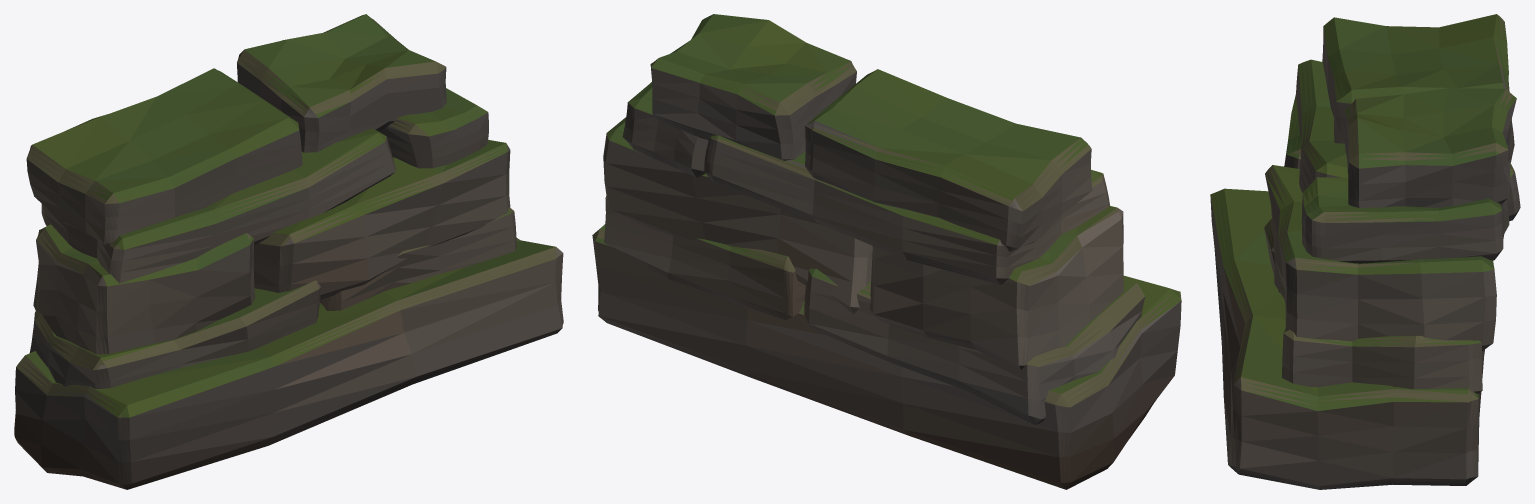
Rendered from cliff_strata_low.glb.
The picture shows the model from 3 angles, left to right: view 1: azimuth 30°, elevation 25°; view 2: azimuth 150°, elevation 25°; view 3: azimuth 270°, elevation 25°; orthographic projection. The views are drawn at different scales.
Parts seen in each view (by area): view 1: cliff_strata_low; view 2: cliff_strata_low; view 3: cliff_strata_low.
Boxes of the visible parts, left/top/right/bottom form: cliff_strata_low: left=14, top=14, right=563, bottom=489; cliff_strata_low: left=592, top=14, right=1181, bottom=489; cliff_strata_low: left=1210, top=14, right=1520, bottom=489.
Bounding box in the file's own units: 6.85 × 4.73 × 3.52.
